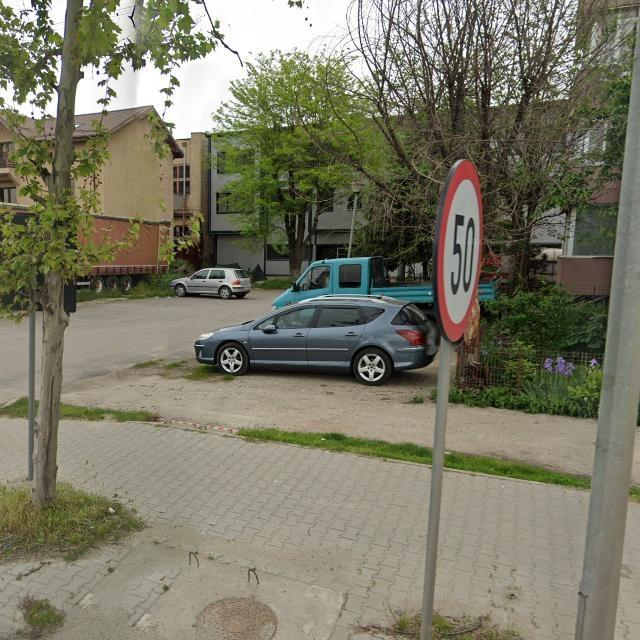forb_speed_over_50: (440, 157, 485, 342)
